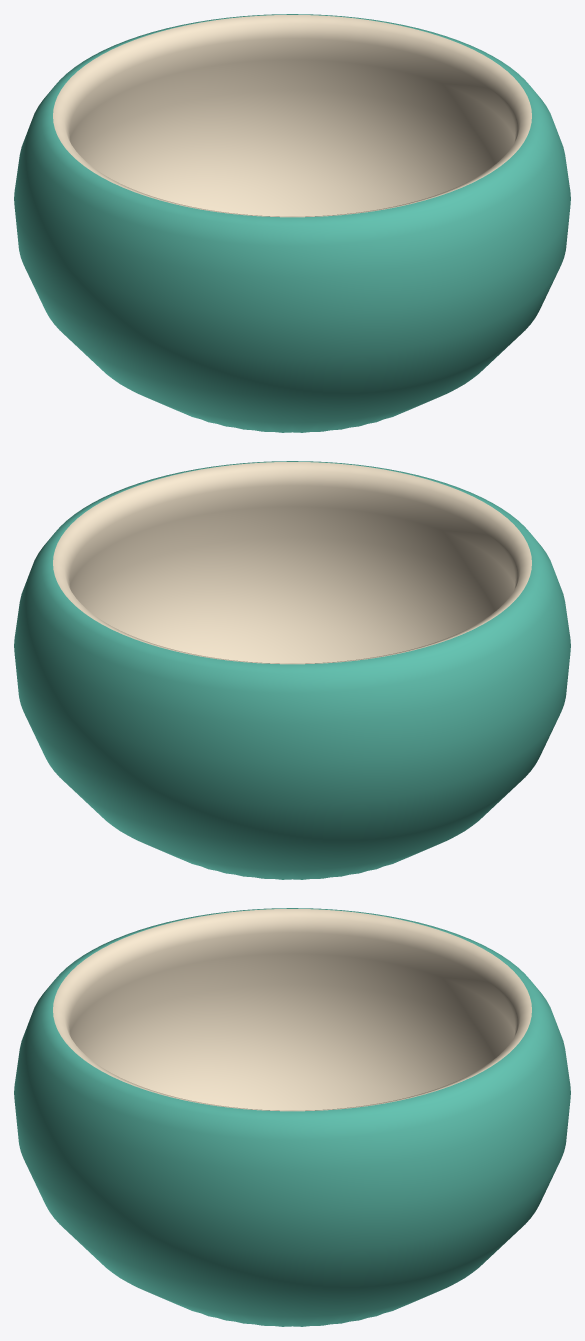
File: bowls_b.glb
The picture shows the model from 3 angles, top to bottom: view 1: azimuth 30°, elevation 25°; view 2: azimuth 150°, elevation 25°; view 3: azimuth 270°, elevation 25°; orthographic projection.
Visible parts, largest first — view 1: body; view 2: body; view 3: body.
Boxes of the visible parts, x1,y1,x2,y2 form: body: (14, 14, 570, 432); body: (14, 461, 570, 879); body: (14, 908, 570, 1326).
Bounding box in the file's own units: 0.1855 × 0.0987 × 0.1855.
